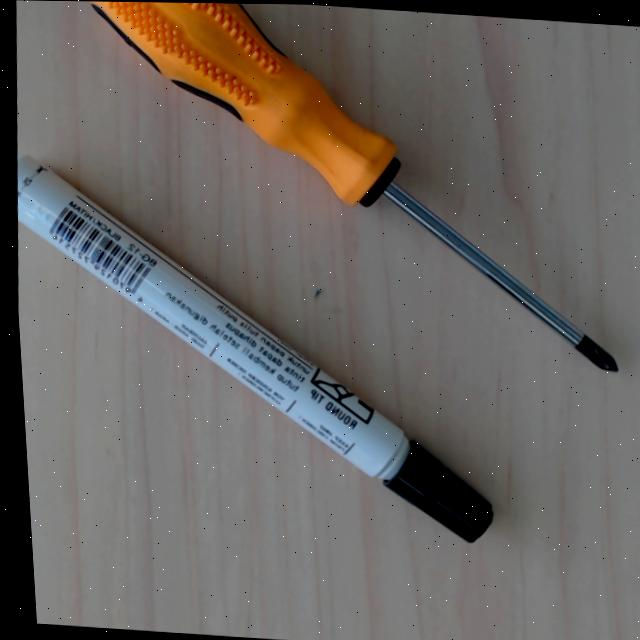Marker-Pen: (0, 149, 505, 553)
